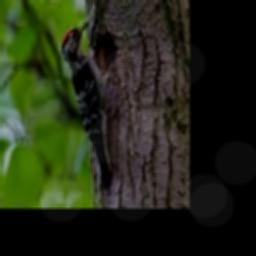Woodpecker: (62, 20, 117, 192)
